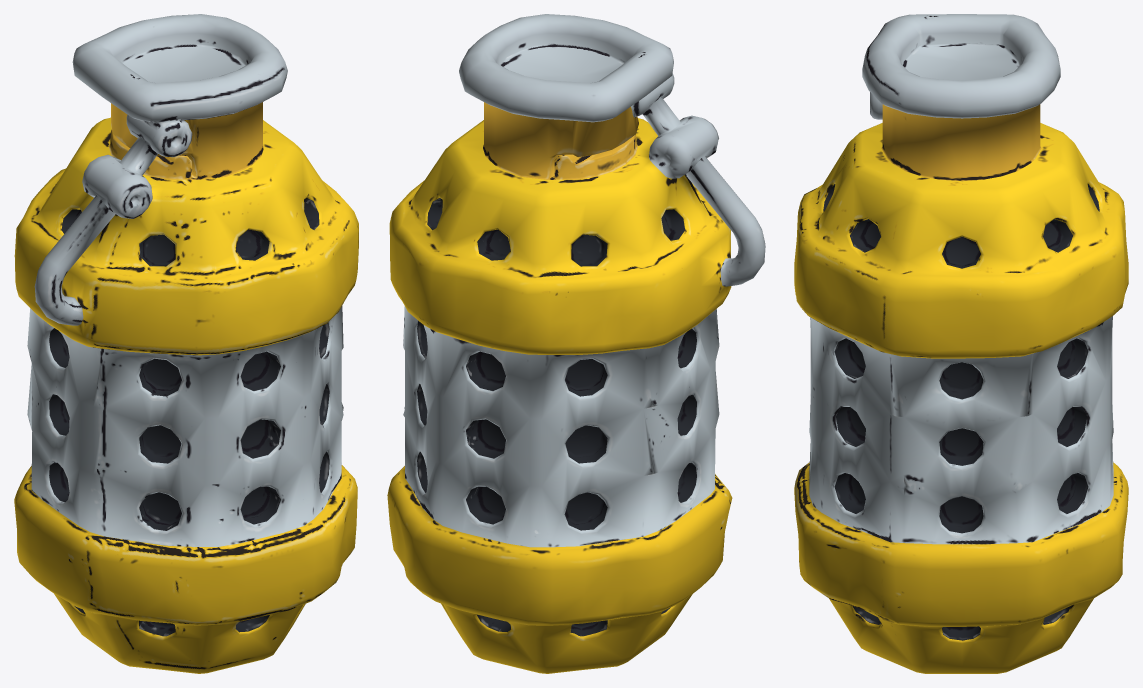
The model's file is flash.glb.
3 views of the same model, side by side, from view 1: azimuth 30°, elevation 25°; view 2: azimuth 150°, elevation 25°; view 3: azimuth 270°, elevation 25° (orthographic).
Parts seen in each view (by area): view 1: Flash; view 2: Flash; view 3: Flash.
Boxes of the visible parts, x1,y1,x2,y2 form: Flash: [14, 14, 358, 673]; Flash: [387, 14, 765, 673]; Flash: [794, 14, 1128, 673].
Size of the model in its own units: 0.0688 by 0.12 by 0.0622.
Materials: 1 (1 with a texture image).
